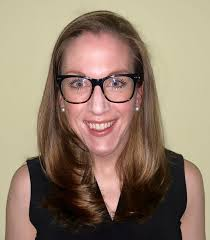s.white: (107, 100, 133, 127)
